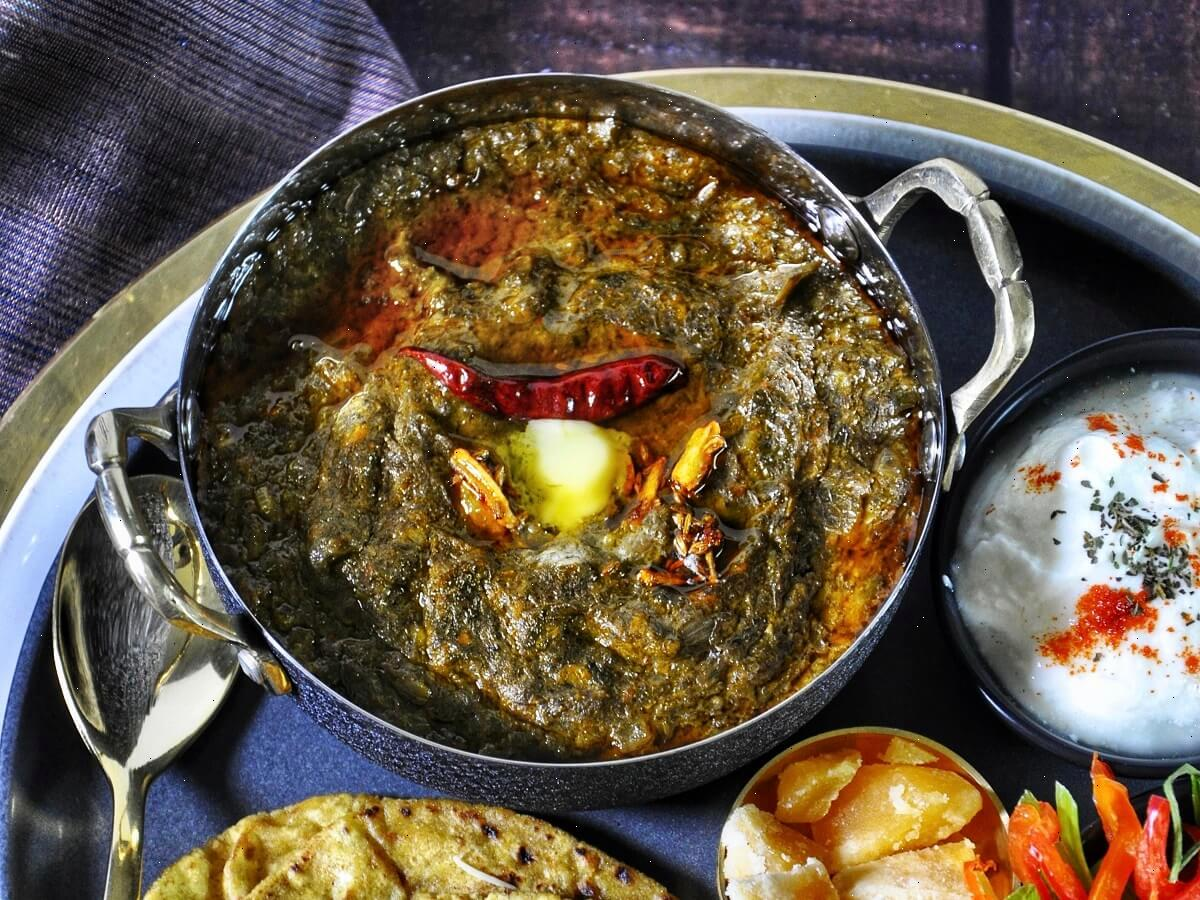saag: (223, 122, 897, 747)
